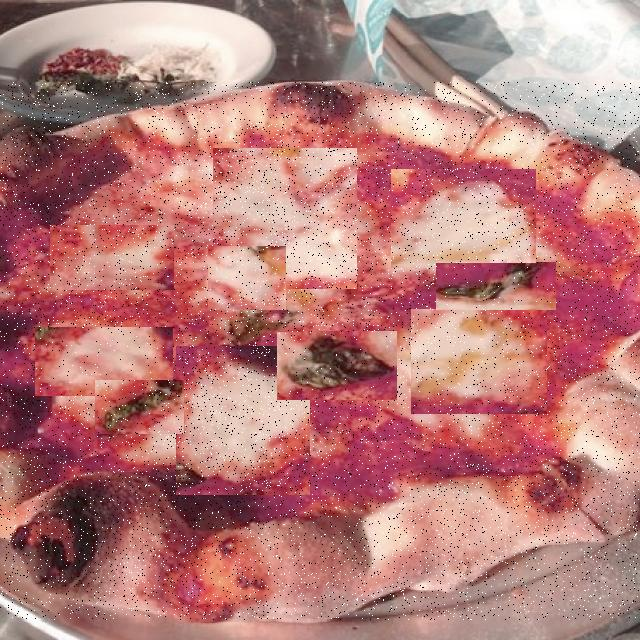Basil: (277, 332, 397, 400), (436, 263, 556, 310), (95, 380, 184, 434), (214, 296, 304, 345)
Cheese: (213, 149, 357, 289), (177, 347, 310, 495), (391, 170, 536, 268), (411, 310, 547, 414), (35, 328, 173, 396), (50, 226, 174, 290), (208, 246, 286, 310)
Pizza: (0, 83, 640, 620)
